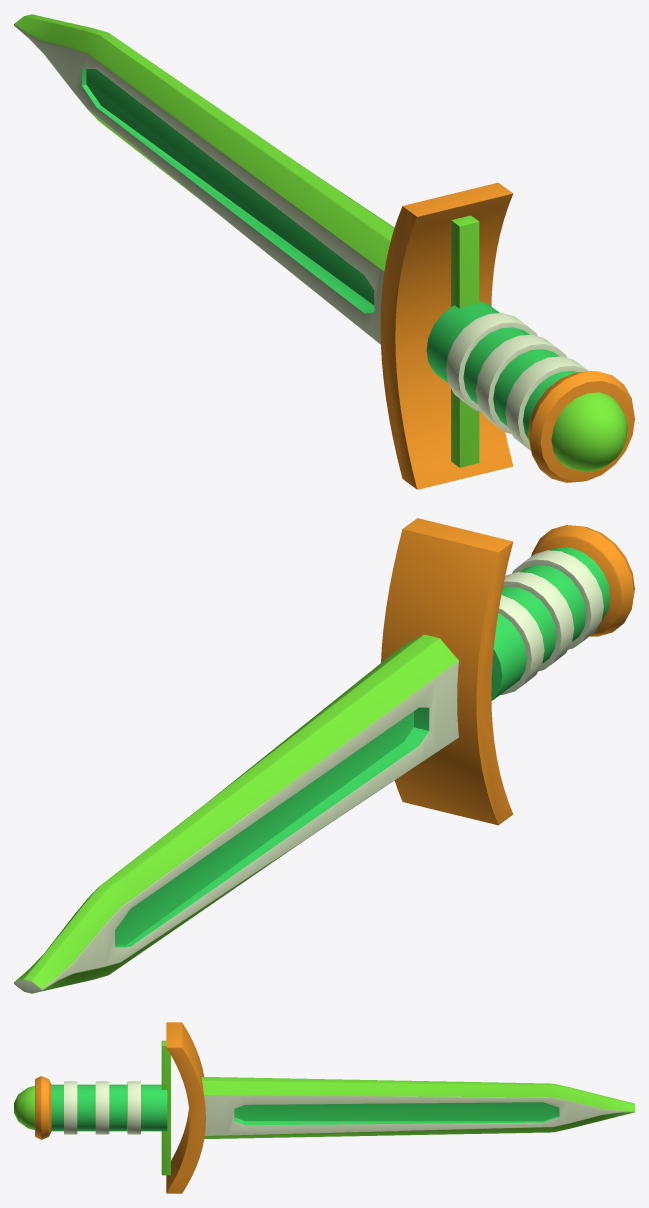
File: Sword_RangersLongblade.glb
3 views of the same model, one above another, from view 1: azimuth 30°, elevation 25°; view 2: azimuth 150°, elevation 25°; view 3: azimuth 270°, elevation 25° (orthographic). The views are drawn at different scales.
Parts seen in each view (by area): view 1: Sword_RangersLongblade; view 2: Sword_RangersLongblade; view 3: Sword_RangersLongblade.
Part boxes in pixels (box(x1,y1,x2,y2)): Sword_RangersLongblade: box(14, 14, 634, 489); Sword_RangersLongblade: box(14, 518, 634, 993); Sword_RangersLongblade: box(14, 1022, 634, 1193).
Bounding box in the file's own units: 0.1037 × 0.26 × 1.
Materials: 1 (1 with a texture image).
